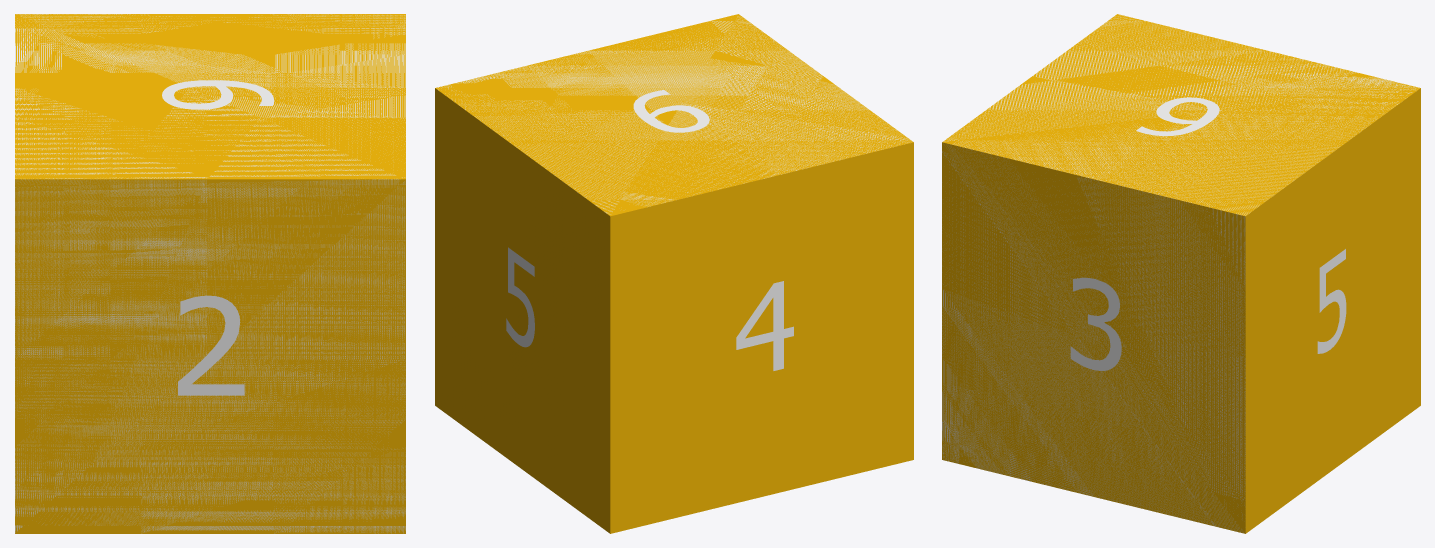
The model's file is dnd_dice_d6.dae.
3 views of the same model, side by side, from view 1: azimuth 30°, elevation 25°; view 2: azimuth 150°, elevation 25°; view 3: azimuth 270°, elevation 25° (orthographic). The views are drawn at different scales.
Parts seen in each view (by area): view 1: group_0, instance_2, instance_3; view 2: group_0 (×2), instance_4, instance_3, instance_5; view 3: group_0 (×2), instance_1, instance_3, instance_5.
Part boxes in pixels (bbox=[...]): group_0: bbox=[15, 14, 405, 533]; instance_2: bbox=[178, 295, 244, 395]; instance_3: bbox=[162, 80, 274, 109]; group_0 (×2): bbox=[435, 14, 913, 533]; instance_4: bbox=[736, 281, 793, 370]; instance_3: bbox=[633, 90, 709, 132]; instance_5: bbox=[506, 247, 534, 347]; group_0 (×2): bbox=[942, 14, 1420, 533]; instance_1: bbox=[1070, 277, 1121, 370]; instance_3: bbox=[1136, 97, 1219, 136]; instance_5: bbox=[1317, 249, 1346, 353].
Size of the model in its own units: 1.06 by 1.06 by 0.7815.
